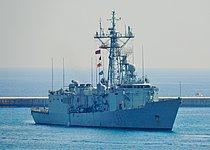MIL_Ship: (28, 61, 182, 133)
